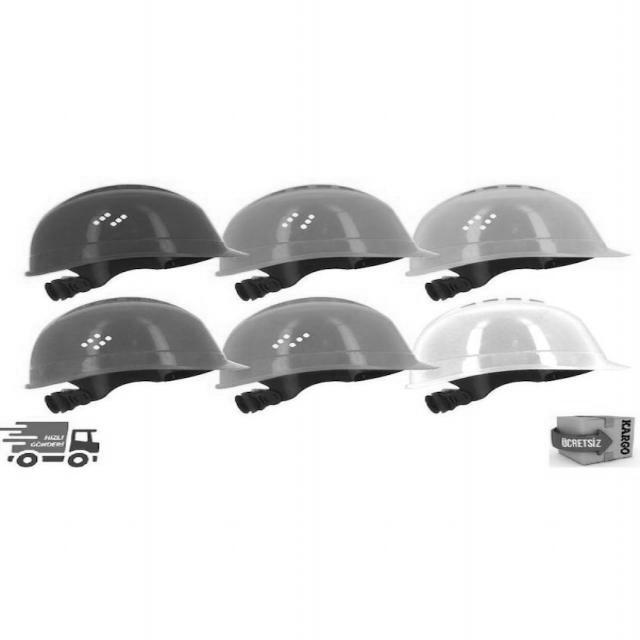construction helmet: (406, 185, 627, 299), (23, 185, 236, 301), (217, 299, 430, 415), (22, 298, 228, 414), (415, 301, 626, 414), (217, 186, 423, 297)
